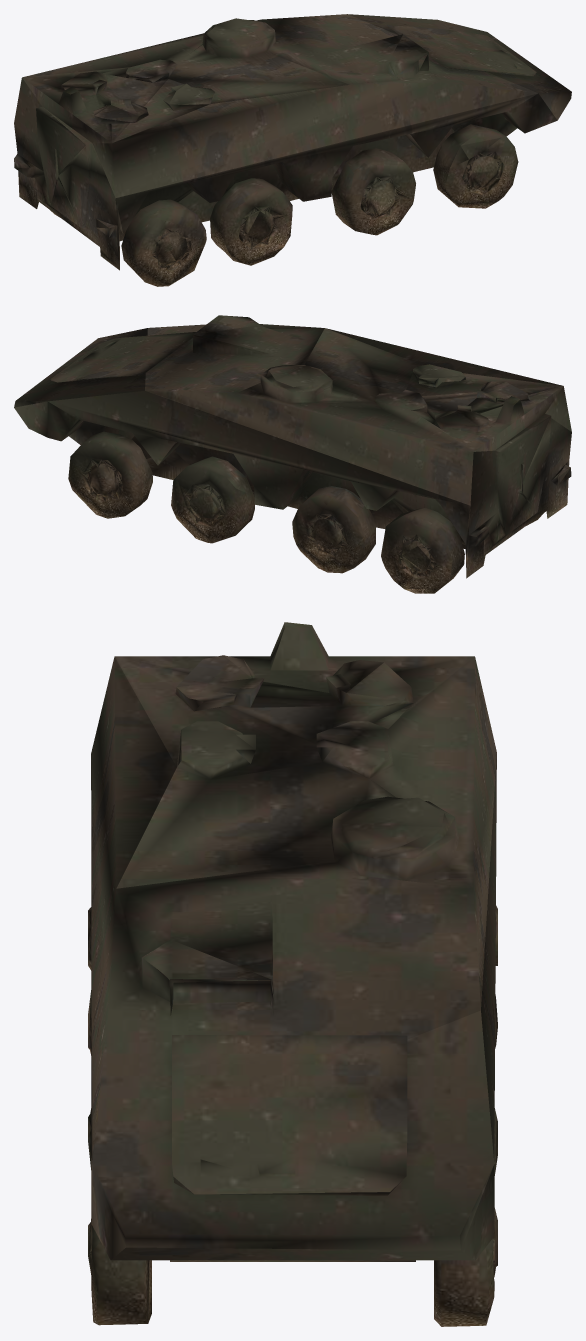
Rendered from apc_boxer.glb.
3 renders of one model, top to bottom at view 1: azimuth 30°, elevation 25°; view 2: azimuth 150°, elevation 25°; view 3: azimuth 270°, elevation 25°, orthographic. The views are drawn at different scales.
Visible parts, largest first — view 1: GTK_BOXER_1_100; view 2: GTK_BOXER_1_100; view 3: GTK_BOXER_1_100.
Boxes of the visible parts, box(x1,y1,x2,y2) form: GTK_BOXER_1_100: box(14, 14, 571, 286); GTK_BOXER_1_100: box(14, 315, 571, 593); GTK_BOXER_1_100: box(88, 622, 497, 1326).
Size of the model in its own units: 20.91 by 7.28 by 7.88.
Materials: 1 (1 with a texture image).
